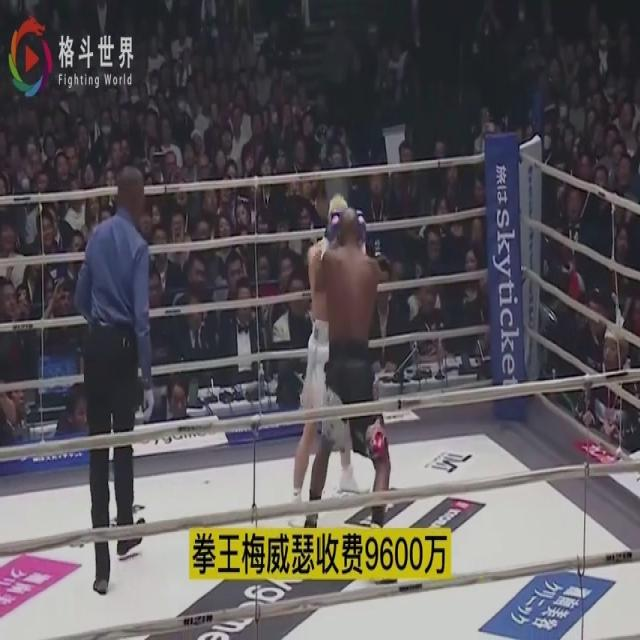fight: (288, 186, 410, 514)
non-fight: (74, 164, 150, 594)
